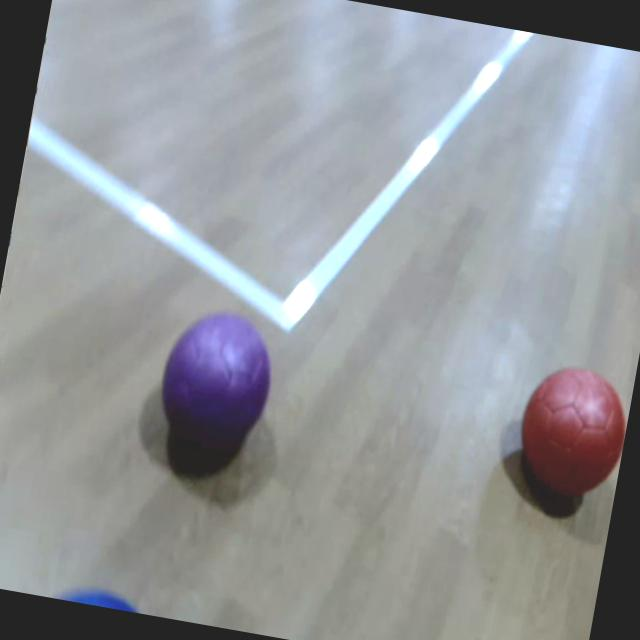purple_ball: (150, 298, 282, 458)
red_ball: (510, 356, 636, 508)
